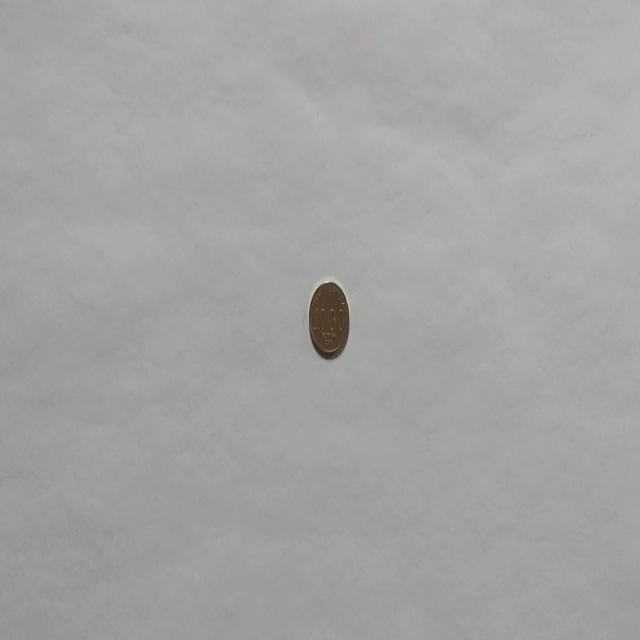seribu rupiah koin: (306, 278, 349, 359)
